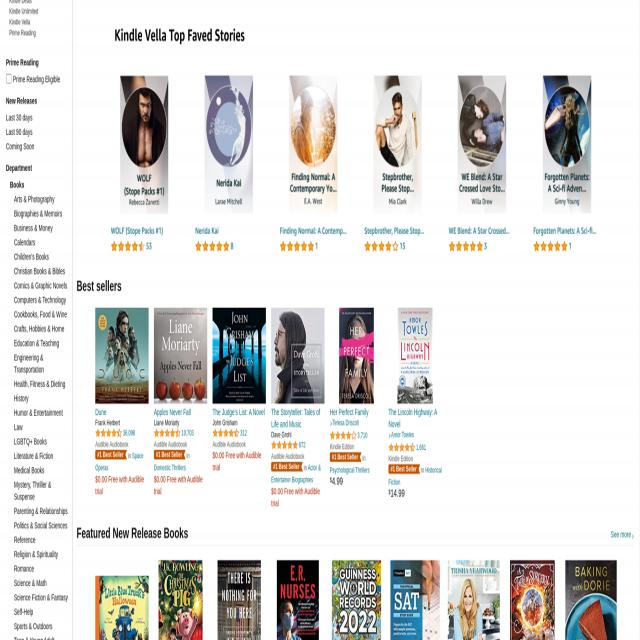button: (105, 75, 182, 263), (274, 75, 351, 263), (190, 75, 266, 263), (359, 75, 435, 263), (444, 75, 520, 263), (530, 75, 604, 262), (95, 307, 149, 404), (212, 307, 266, 404), (271, 307, 325, 404), (388, 307, 442, 404), (154, 307, 207, 404), (330, 307, 383, 404), (447, 558, 500, 640), (565, 560, 617, 640), (390, 559, 440, 640), (332, 560, 380, 640), (509, 559, 555, 640), (158, 560, 203, 640), (217, 559, 261, 640), (95, 575, 149, 640), (276, 560, 319, 640)
field: (6, 72, 12, 82)
